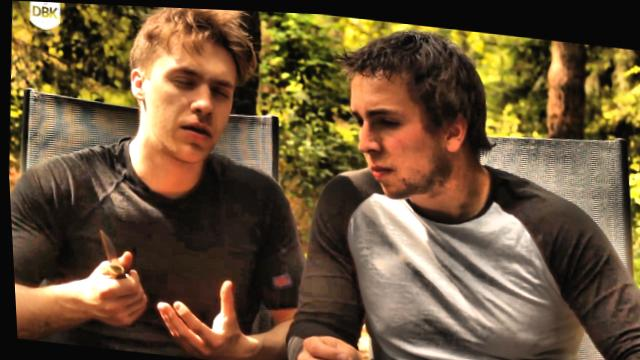knife: (77, 222, 151, 309)
